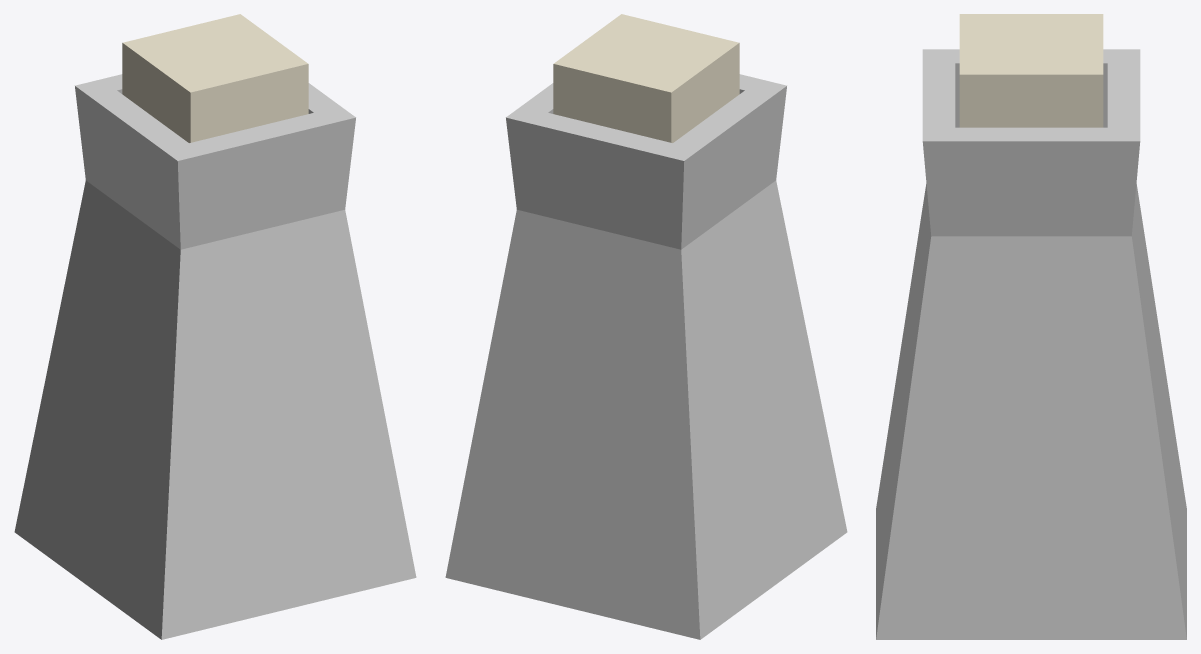
The model's file is health_potion.glb.
The picture shows the model from 3 angles, left to right: view 1: azimuth 30°, elevation 25°; view 2: azimuth 150°, elevation 25°; view 3: azimuth 270°, elevation 25°; orthographic projection. The views are drawn at different scales.
Visible parts, largest first — view 1: HealthPotion; view 2: HealthPotion; view 3: HealthPotion.
Part boxes in pixels (x1,y1,x2,y2): HealthPotion: [14, 14, 416, 639]; HealthPotion: [445, 14, 847, 639]; HealthPotion: [876, 14, 1186, 639].
Bounding box in the file's own units: 0.09 × 0.1693 × 0.09.
